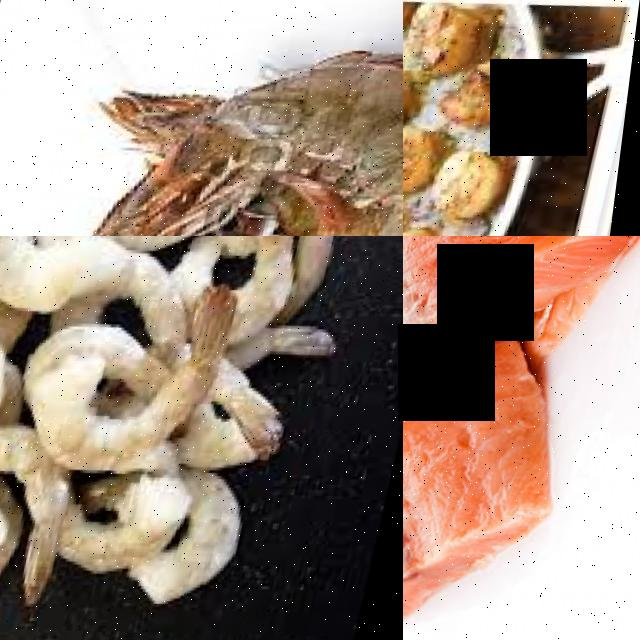sea scallops: (429, 152, 522, 236), (435, 63, 529, 142), (403, 4, 487, 88), (403, 130, 440, 204)
shrimp: (29, 281, 243, 490), (204, 48, 403, 221), (0, 236, 161, 322), (0, 456, 92, 566)
